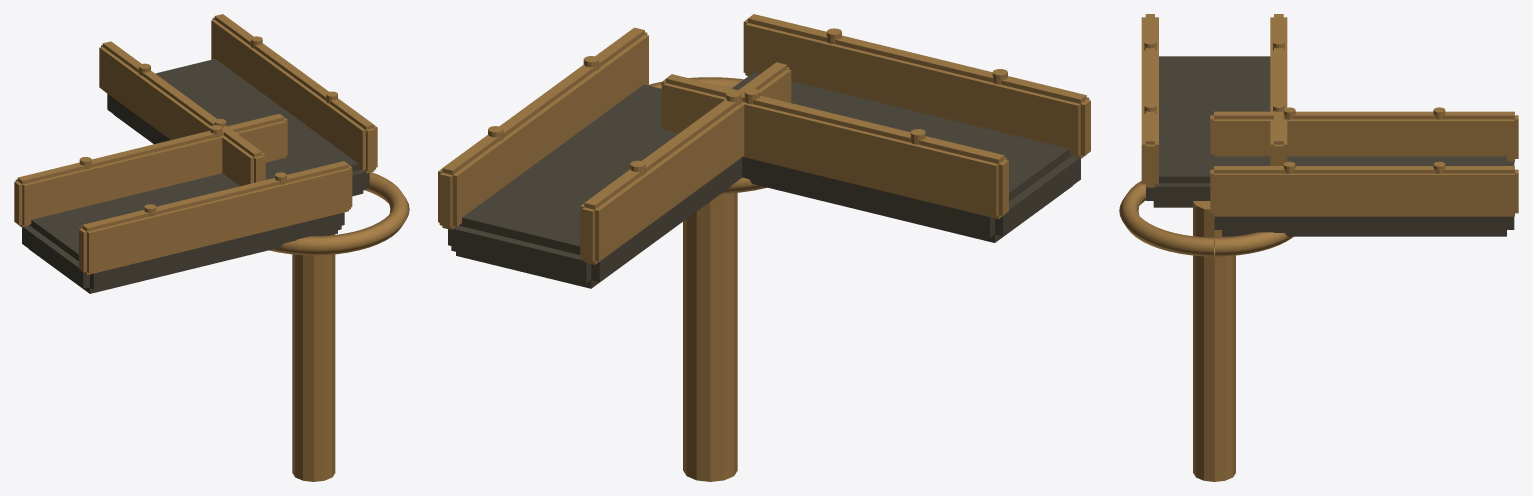
Rendered from foundry-rotor-v01.glb.
3 views of the same model, side by side, from view 1: azimuth 30°, elevation 25°; view 2: azimuth 150°, elevation 25°; view 3: azimuth 270°, elevation 25° (orthographic). The views are drawn at different scales.
Parts seen in each view (by area): view 1: Foundry Bronze • forged warm, Foundry Bronze • aged recess; view 2: Foundry Bronze • forged warm, Foundry Bronze • aged recess; view 3: Foundry Bronze • forged warm, Foundry Bronze • aged recess.
Boxes of the visible parts, x1,y1,x2,y2 form: Foundry Bronze • forged warm: [14, 14, 409, 481]; Foundry Bronze • aged recess: [22, 59, 369, 293]; Foundry Bronze • forged warm: [438, 14, 1090, 481]; Foundry Bronze • aged recess: [448, 72, 1080, 288]; Foundry Bronze • forged warm: [1119, 14, 1518, 481]; Foundry Bronze • aged recess: [1146, 56, 1514, 236].
Size of the model in its own units: 1.86 by 1.73 by 1.87.
